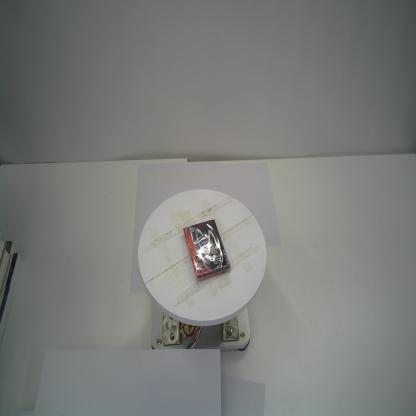Gum: (183, 218, 231, 286)
